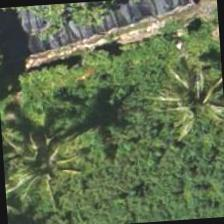Kelapa_Sawit: (0, 111, 80, 206), (150, 61, 223, 158)
